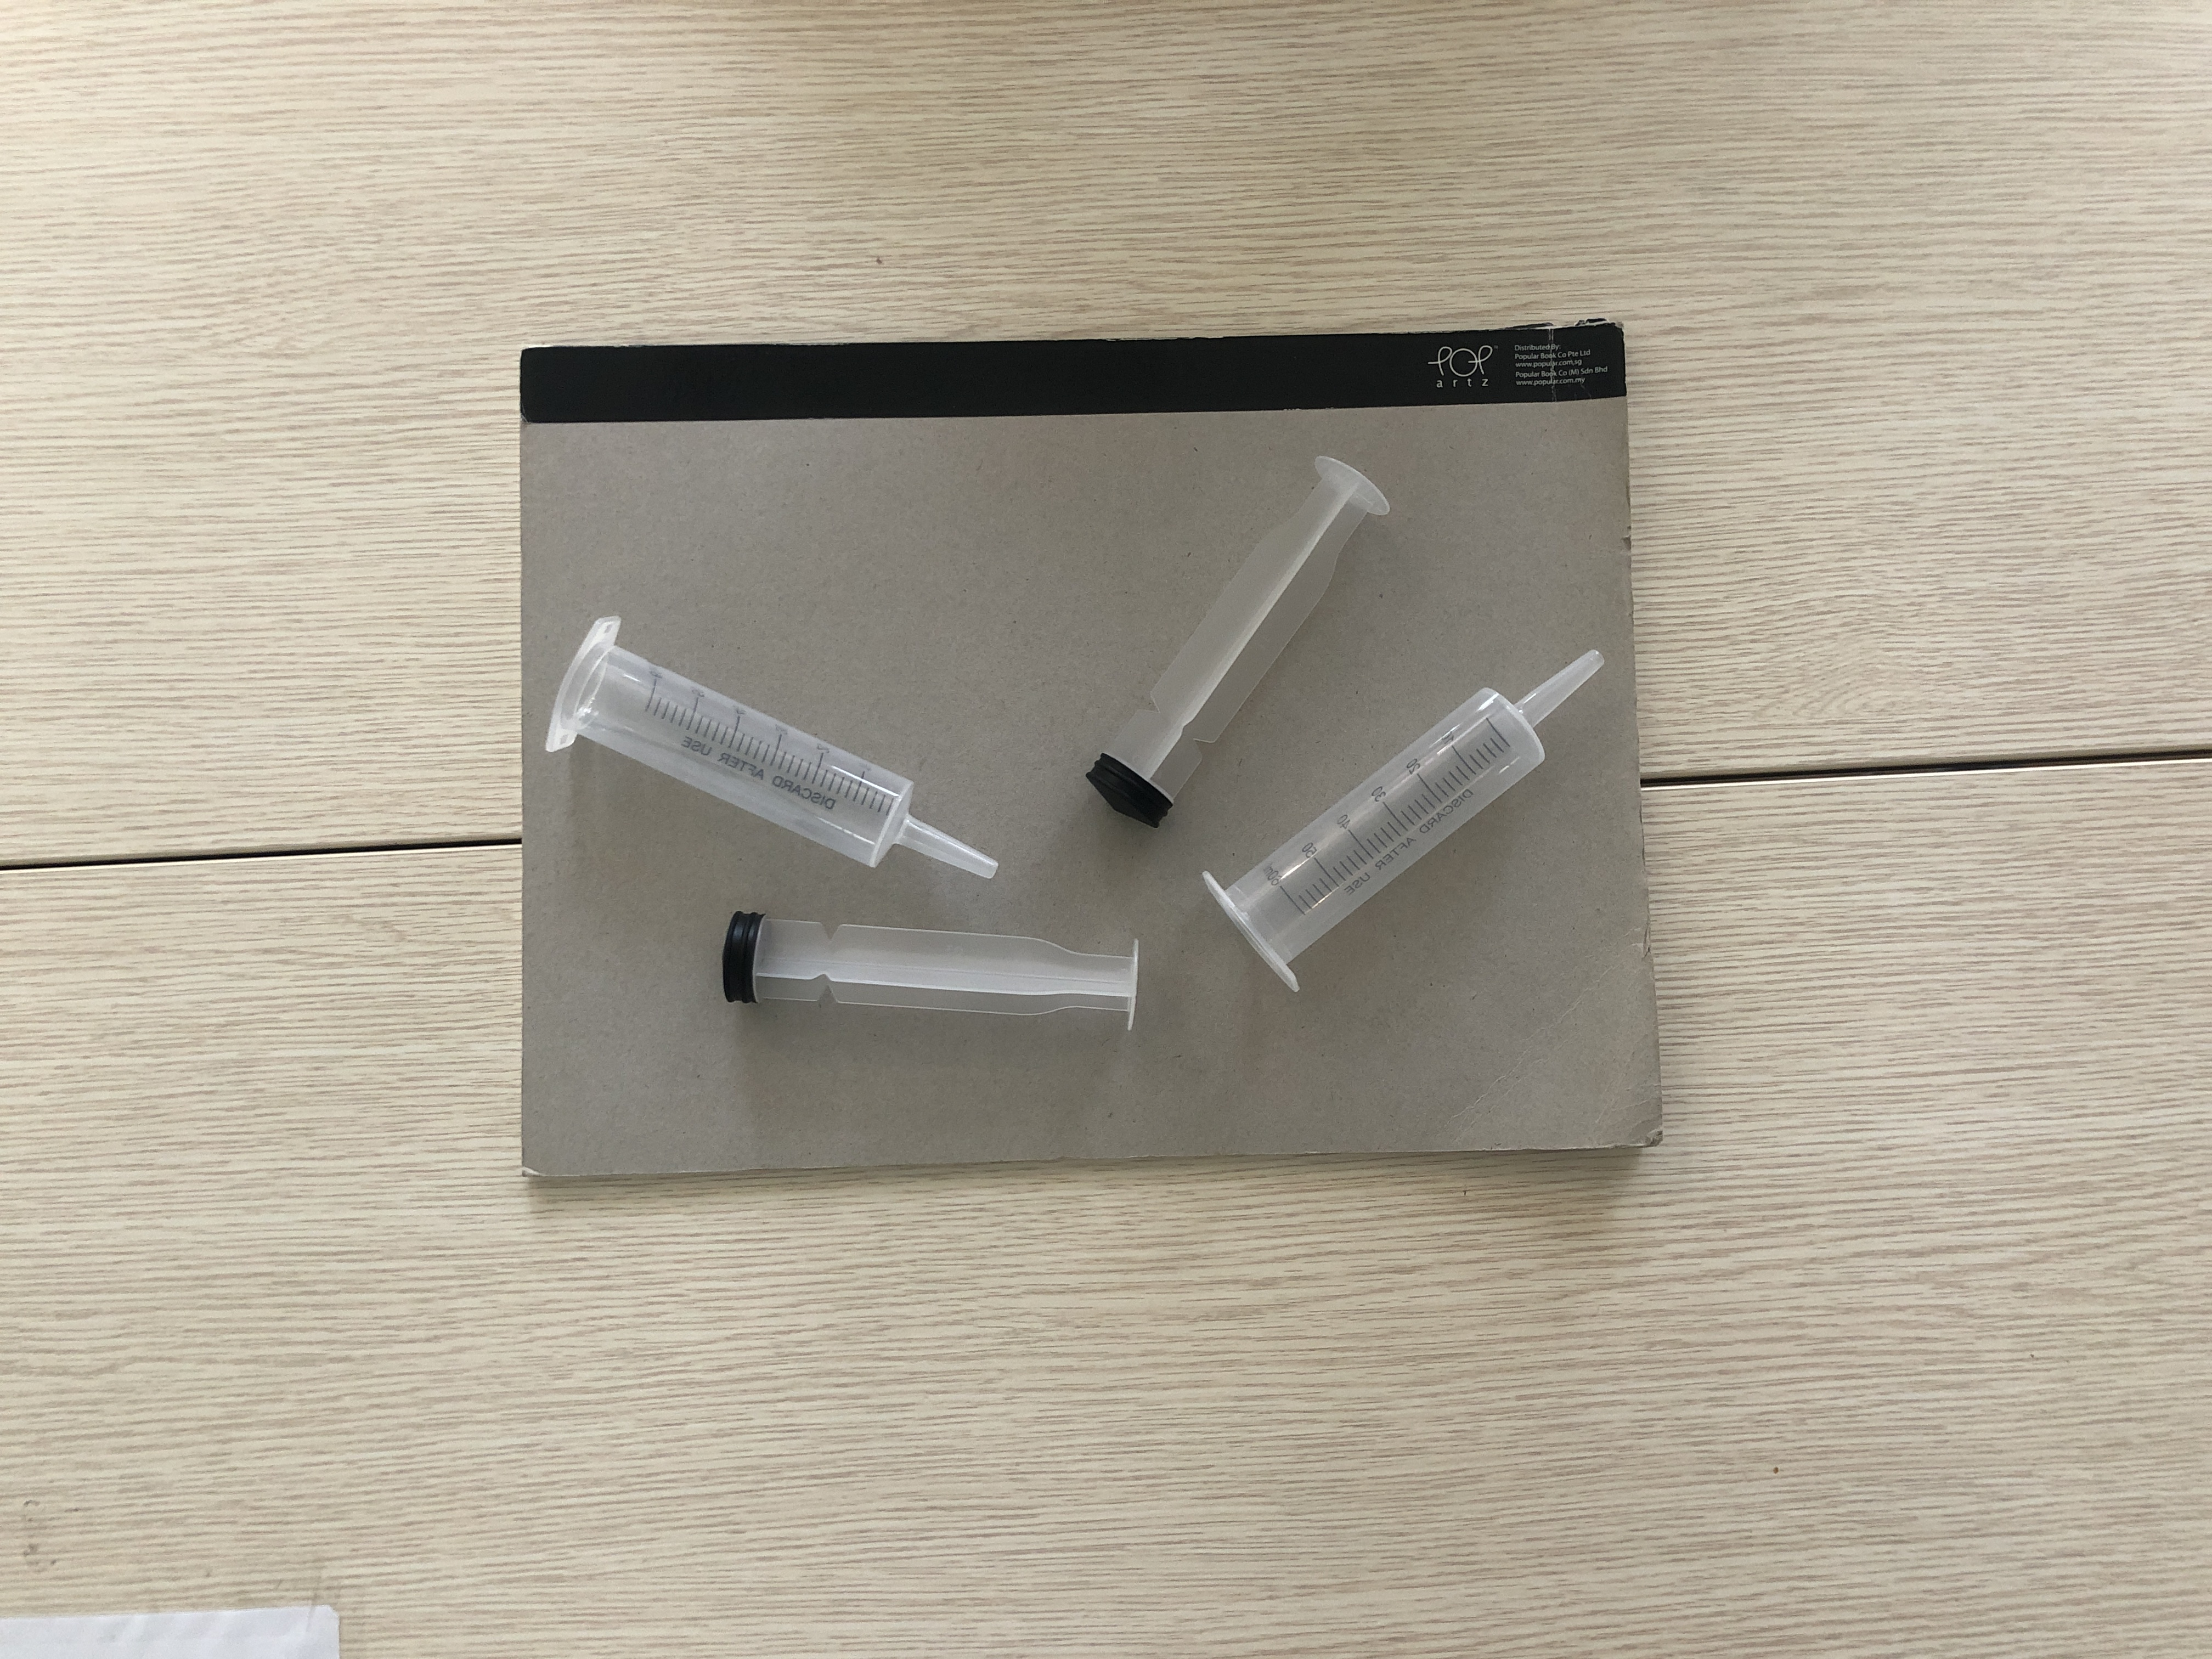plunger: (1080, 444, 1395, 828), (714, 901, 1144, 1040)
syringe: (1200, 647, 1618, 1000), (543, 606, 998, 878)
